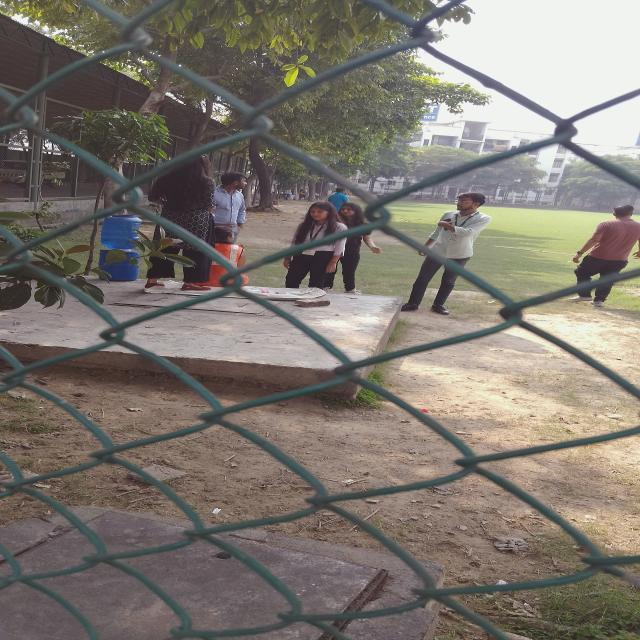unsafe: (401, 192, 500, 318), (154, 155, 216, 296), (564, 204, 640, 306), (291, 202, 336, 290), (208, 172, 255, 241)
